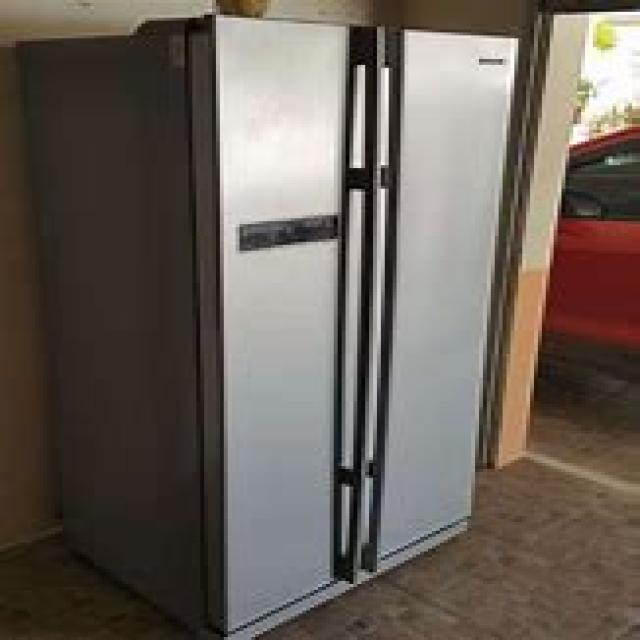fridge: (12, 12, 518, 637)
